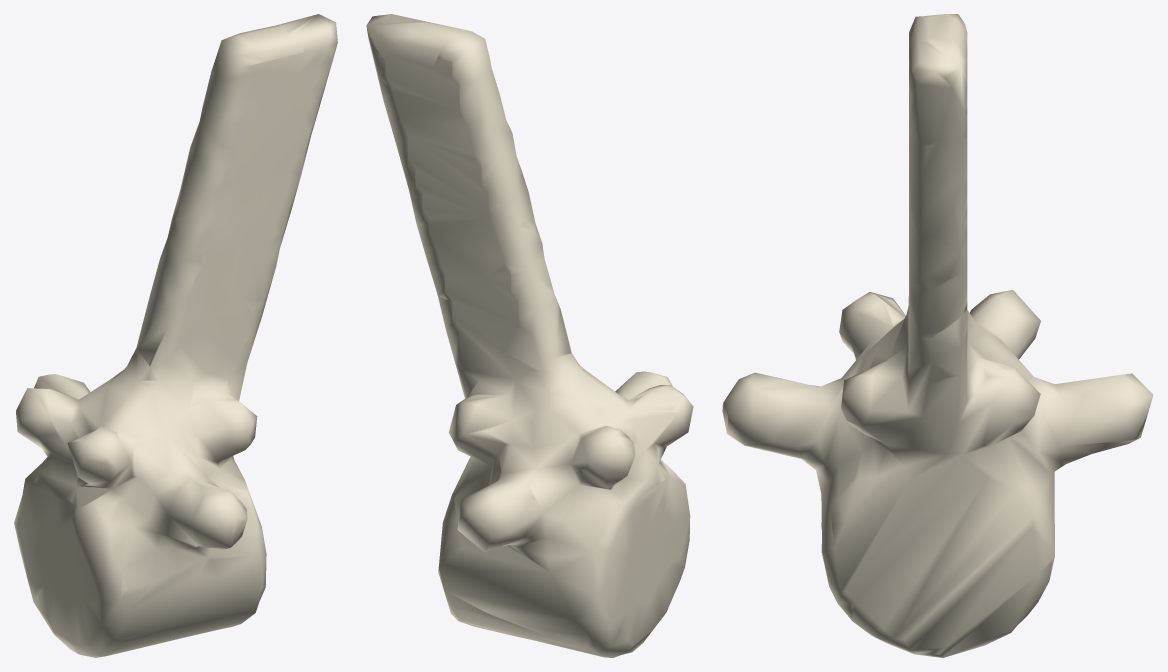
Rendered from thoracic_10.glb.
3 renders of one model, left to right at view 1: azimuth 30°, elevation 25°; view 2: azimuth 150°, elevation 25°; view 3: azimuth 270°, elevation 25°, orthographic. The views are drawn at different scales.
Parts seen in each view (by area): view 1: geometry_0; view 2: geometry_0; view 3: geometry_0.
Part boxes in pixels (x1,y1,x2,y2): geometry_0: [14, 14, 337, 657]; geometry_0: [366, 14, 693, 657]; geometry_0: [722, 14, 1153, 657].
Bounding box in the file's own units: 0.1569 × 0.2987 × 0.1777.
